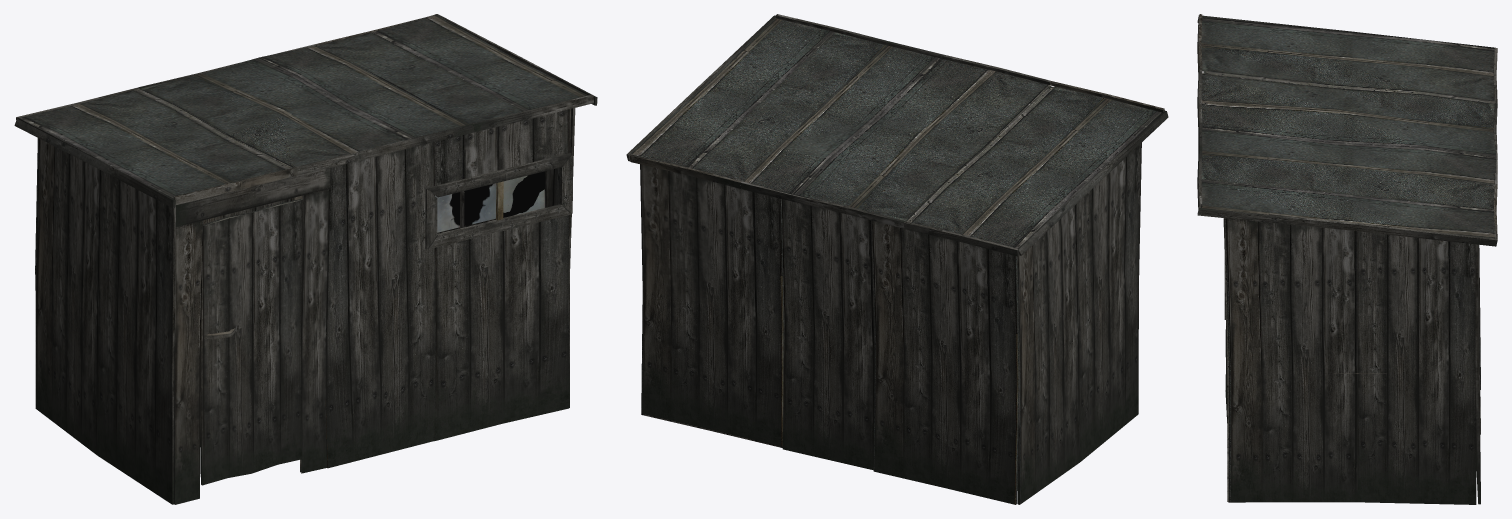
Rendered from Saray_02.FBX.
3 renders of one model, left to right at view 1: azimuth 30°, elevation 25°; view 2: azimuth 150°, elevation 25°; view 3: azimuth 270°, elevation 25°, orthographic. The views are drawn at different scales.
Parts seen in each view (by area): view 1: Saray, glass_00; view 2: Saray; view 3: Saray.
Boxes of the visible parts, x1,y1,x2,y2 form: Saray: (14, 14, 597, 504); glass_00: (435, 171, 546, 232); Saray: (626, 14, 1168, 504); Saray: (1197, 14, 1497, 504).
Size of the model in its own units: 2.38 by 1.72 by 1.55.
